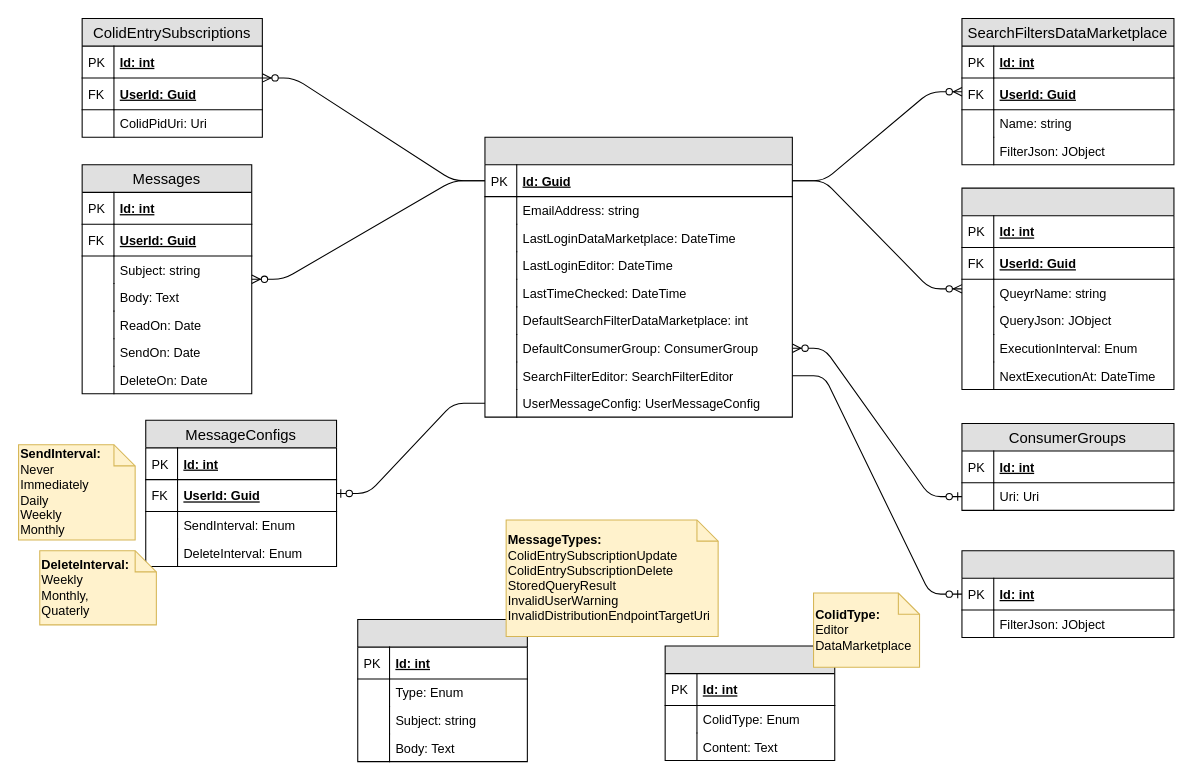
Some shapes in this 1192 by 783 pixel diagram are drawn without their labels. The box of each missing label's shape, as (x1, y1, x2, y2) in pixels:
MessageTemplates: (357, 619, 527, 762)
SearchFilterEditor: (961, 550, 1174, 638)
StoredQueries: (961, 187, 1174, 390)
Users: (484, 136, 792, 417)
WelcomeMessages: (664, 645, 835, 761)
